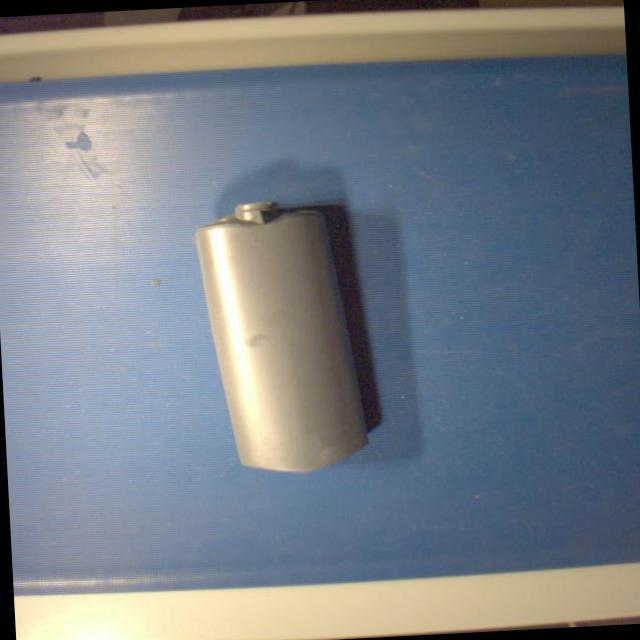HDPE Plastic: (190, 196, 372, 476)
